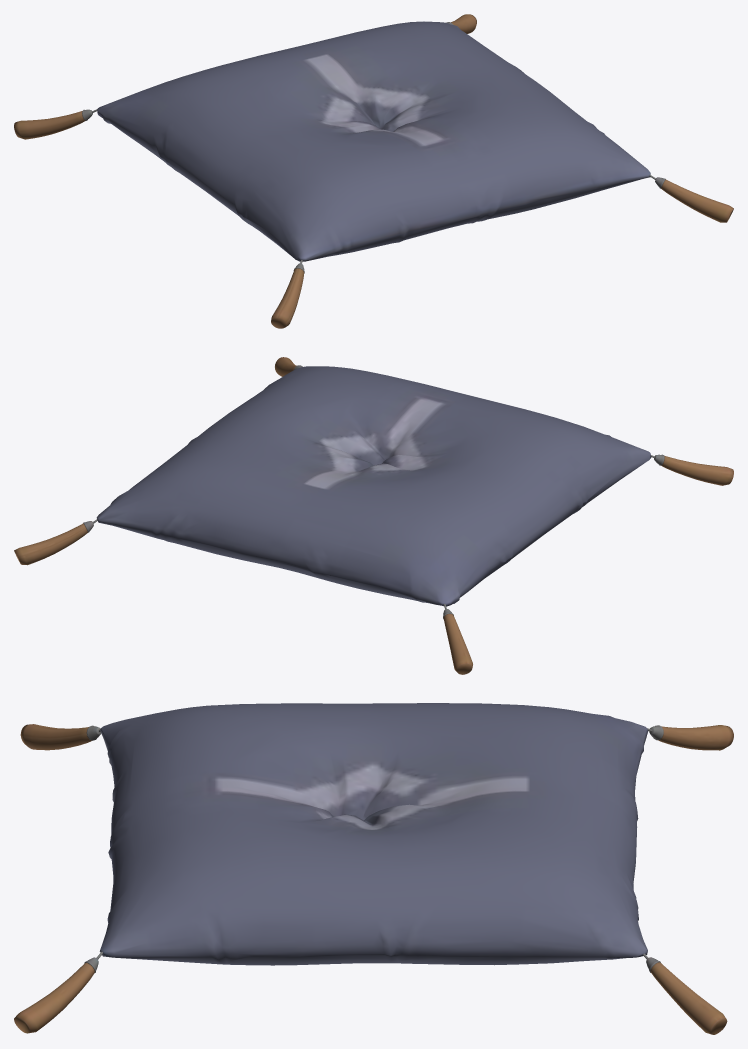
Rendered from SM_JapaneseCushion_b23179.glb.
The picture shows the model from 3 angles, top to bottom: view 1: azimuth 30°, elevation 25°; view 2: azimuth 150°, elevation 25°; view 3: azimuth 270°, elevation 25°; orthographic projection. The views are drawn at different scales.
Bounding box in the file's own units: 0.9837 × 0.1707 × 1.
Materials: 1 (1 with a texture image).
